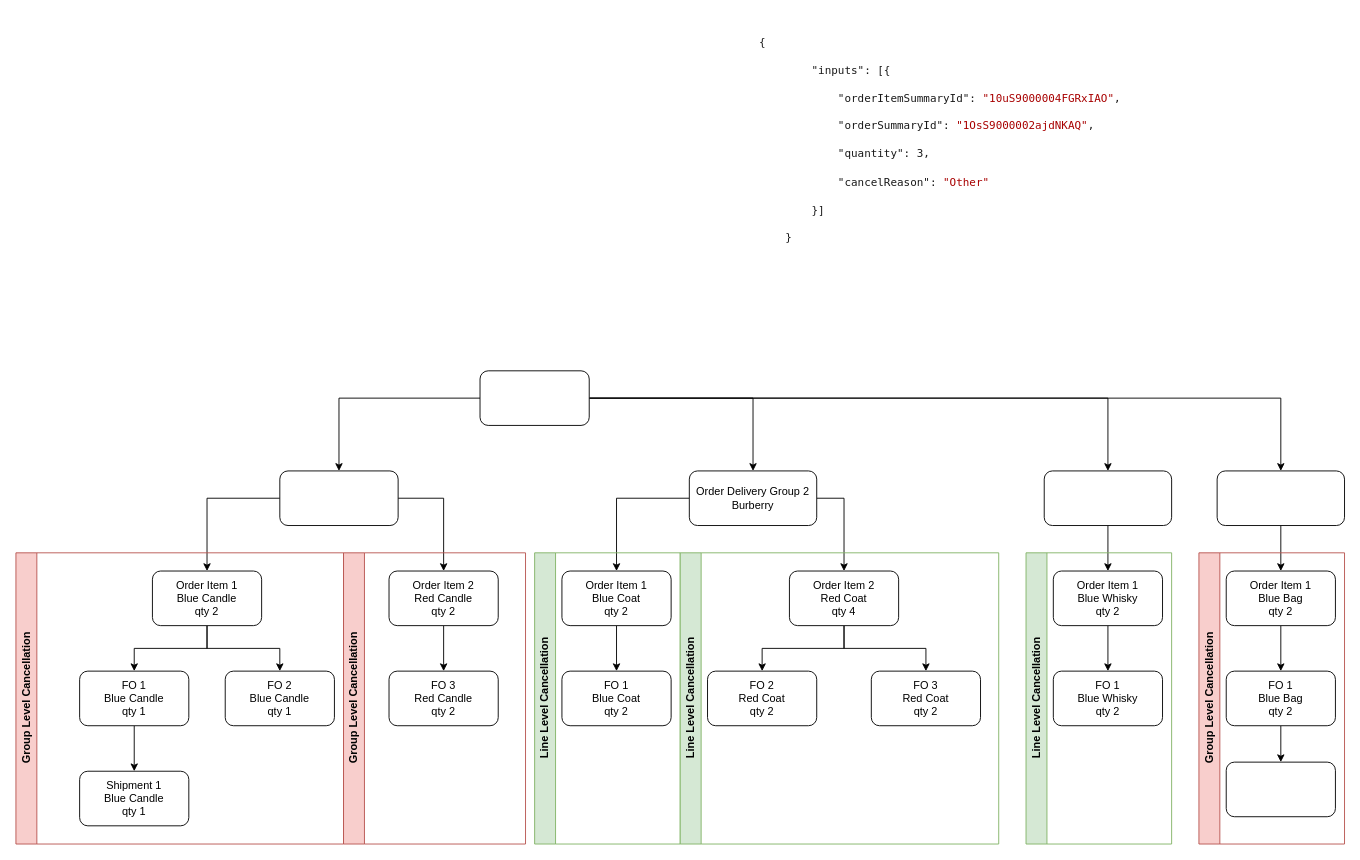
The diagram is 1360 pixels wide and 860 high, and some of its shapes have lost their labels. The box of each missing label's shape, as (x1, y1, x2, y2) in pixels:
Order Delivery Group 1 Candles: (279, 470, 398, 526)
Order Delivery Group 3 Bladnoch: (1043, 470, 1172, 526)
Order Delivery Group 4 Case: (1216, 470, 1345, 526)
Order Summary: (479, 370, 589, 425)
Shipment 1 Blue Bag qty 1: (1225, 761, 1335, 817)
